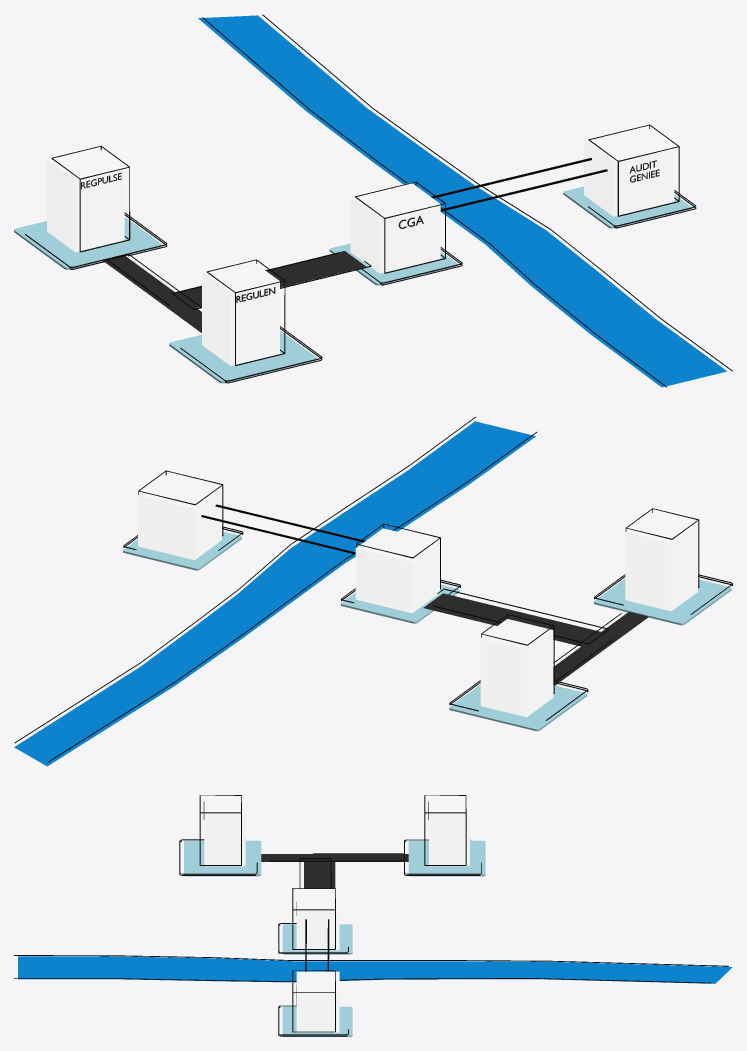
The model's file is forpc.glb.
3 renders of one model, top to bottom at view 1: azimuth 30°, elevation 25°; view 2: azimuth 150°, elevation 25°; view 3: azimuth 270°, elevation 25°, orthographic. The views are drawn at different scales.
Parts seen in each view (by area): view 1: Plane.006, Cube.001, Cube, GP_Layer, Cube.003, Cube.002, Plane.007, Plane.002, Plane.001, Plane.005, Plane.009, Plane.003; view 2: Plane.006, Cube.001, Cube, Cube.003, Cube.002, GP_Layer, Plane.001, Plane.002, Plane.007, Plane.005, Plane.009, Plane.003; view 3: Plane.006, GP_Layer, Cube, Cube.001, Cube.002, Cube.003, Plane.007, Plane.002, Plane.005, Plane.009, Plane.003, Plane.001.
Part boxes in pixels (left/top/right/bottom): Plane.006: left=198, top=15, right=727, bottom=387; Cube.001: left=47, top=147, right=124, bottom=252; Cube: left=202, top=260, right=279, bottom=365; GP_Layer: left=25, top=14, right=732, bottom=387; Cube.003: left=350, top=182, right=440, bottom=273; Cube.002: left=584, top=125, right=674, bottom=216; Plane.007: left=169, top=330, right=316, bottom=383; Plane.002: left=14, top=217, right=161, bottom=269; Plane.001: left=175, top=251, right=365, bottom=309; Plane.005: left=103, top=256, right=201, bottom=332; Plane.009: left=563, top=186, right=690, bottom=228; Plane.003: left=329, top=243, right=457, bottom=285; Plane.006: left=14, top=421, right=535, bottom=766; Cube.001: left=480, top=619, right=553, bottom=717; Cube: left=625, top=513, right=697, bottom=611; Cube.003: left=355, top=528, right=439, bottom=613; Cube.002: left=138, top=475, right=221, bottom=559; GP_Layer: left=14, top=416, right=732, bottom=762; Plane.001: left=423, top=593, right=607, bottom=646; Plane.002: left=449, top=684, right=586, bottom=731; Plane.007: left=594, top=578, right=731, bottom=625; Plane.005: left=553, top=612, right=648, bottom=685; Plane.009: left=123, top=531, right=241, bottom=570; Plane.003: left=340, top=584, right=459, bottom=623; Plane.006: left=18, top=956, right=732, bottom=983; GP_Layer: left=14, top=795, right=728, bottom=1036; Cube: left=204, top=796, right=245, bottom=866; Cube.001: left=429, top=796, right=469, bottom=866; Cube.002: left=296, top=971, right=339, bottom=1032; Cube.003: left=296, top=889, right=339, bottom=950; Plane.007: left=184, top=840, right=261, bottom=876; Plane.002: left=408, top=840, right=485, bottom=876; Plane.005: left=261, top=854, right=408, bottom=861; Plane.009: left=282, top=1006, right=352, bottom=1036; Plane.003: left=282, top=924, right=352, bottom=954; Plane.001: left=304, top=859, right=335, bottom=888.
Size of the model in its own units: 4.81 by 0.7115 by 7.64.
